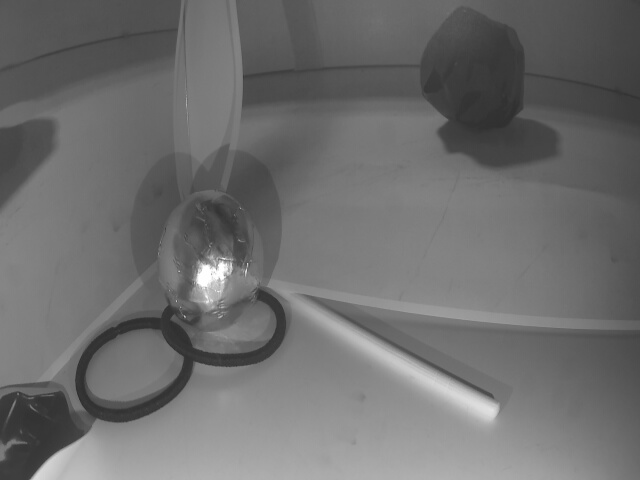Live: (155, 196, 263, 331)
